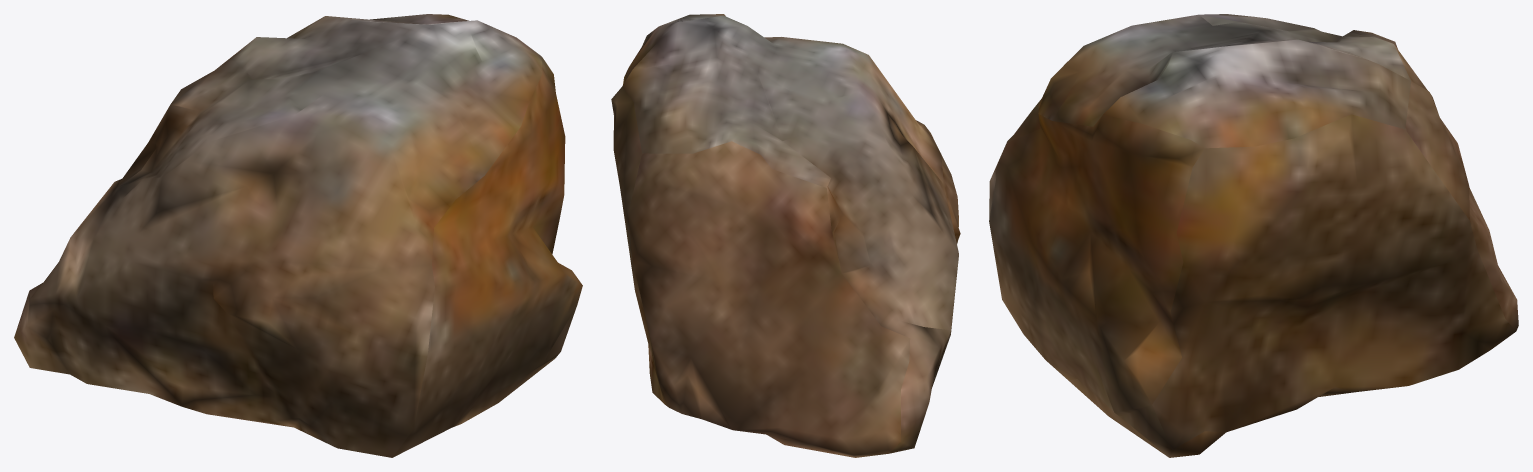
File: rocher_granite_lod2.glb
3 views of the same model, side by side, from view 1: azimuth 30°, elevation 25°; view 2: azimuth 150°, elevation 25°; view 3: azimuth 270°, elevation 25° (orthographic). The views are drawn at different scales.
Visible parts, largest first — view 1: boulder_04; view 2: boulder_04; view 3: boulder_04.
Part boxes in pixels (x1,y1,x2,y2): boulder_04: (14,14,582,457); boulder_04: (611,14,960,457); boulder_04: (989,14,1518,457).
Bounding box in the file's own units: 2.51 × 1.89 × 2.48.
1 material, 1 textured.
